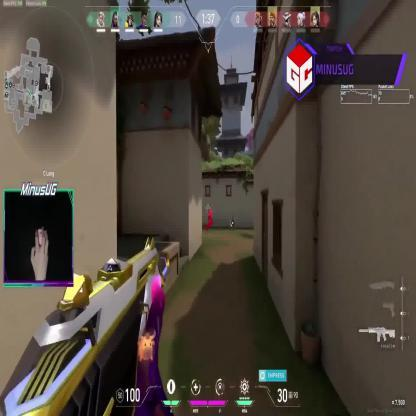enemy: (206, 206, 213, 232)
enemy_head: (209, 206, 212, 211)
